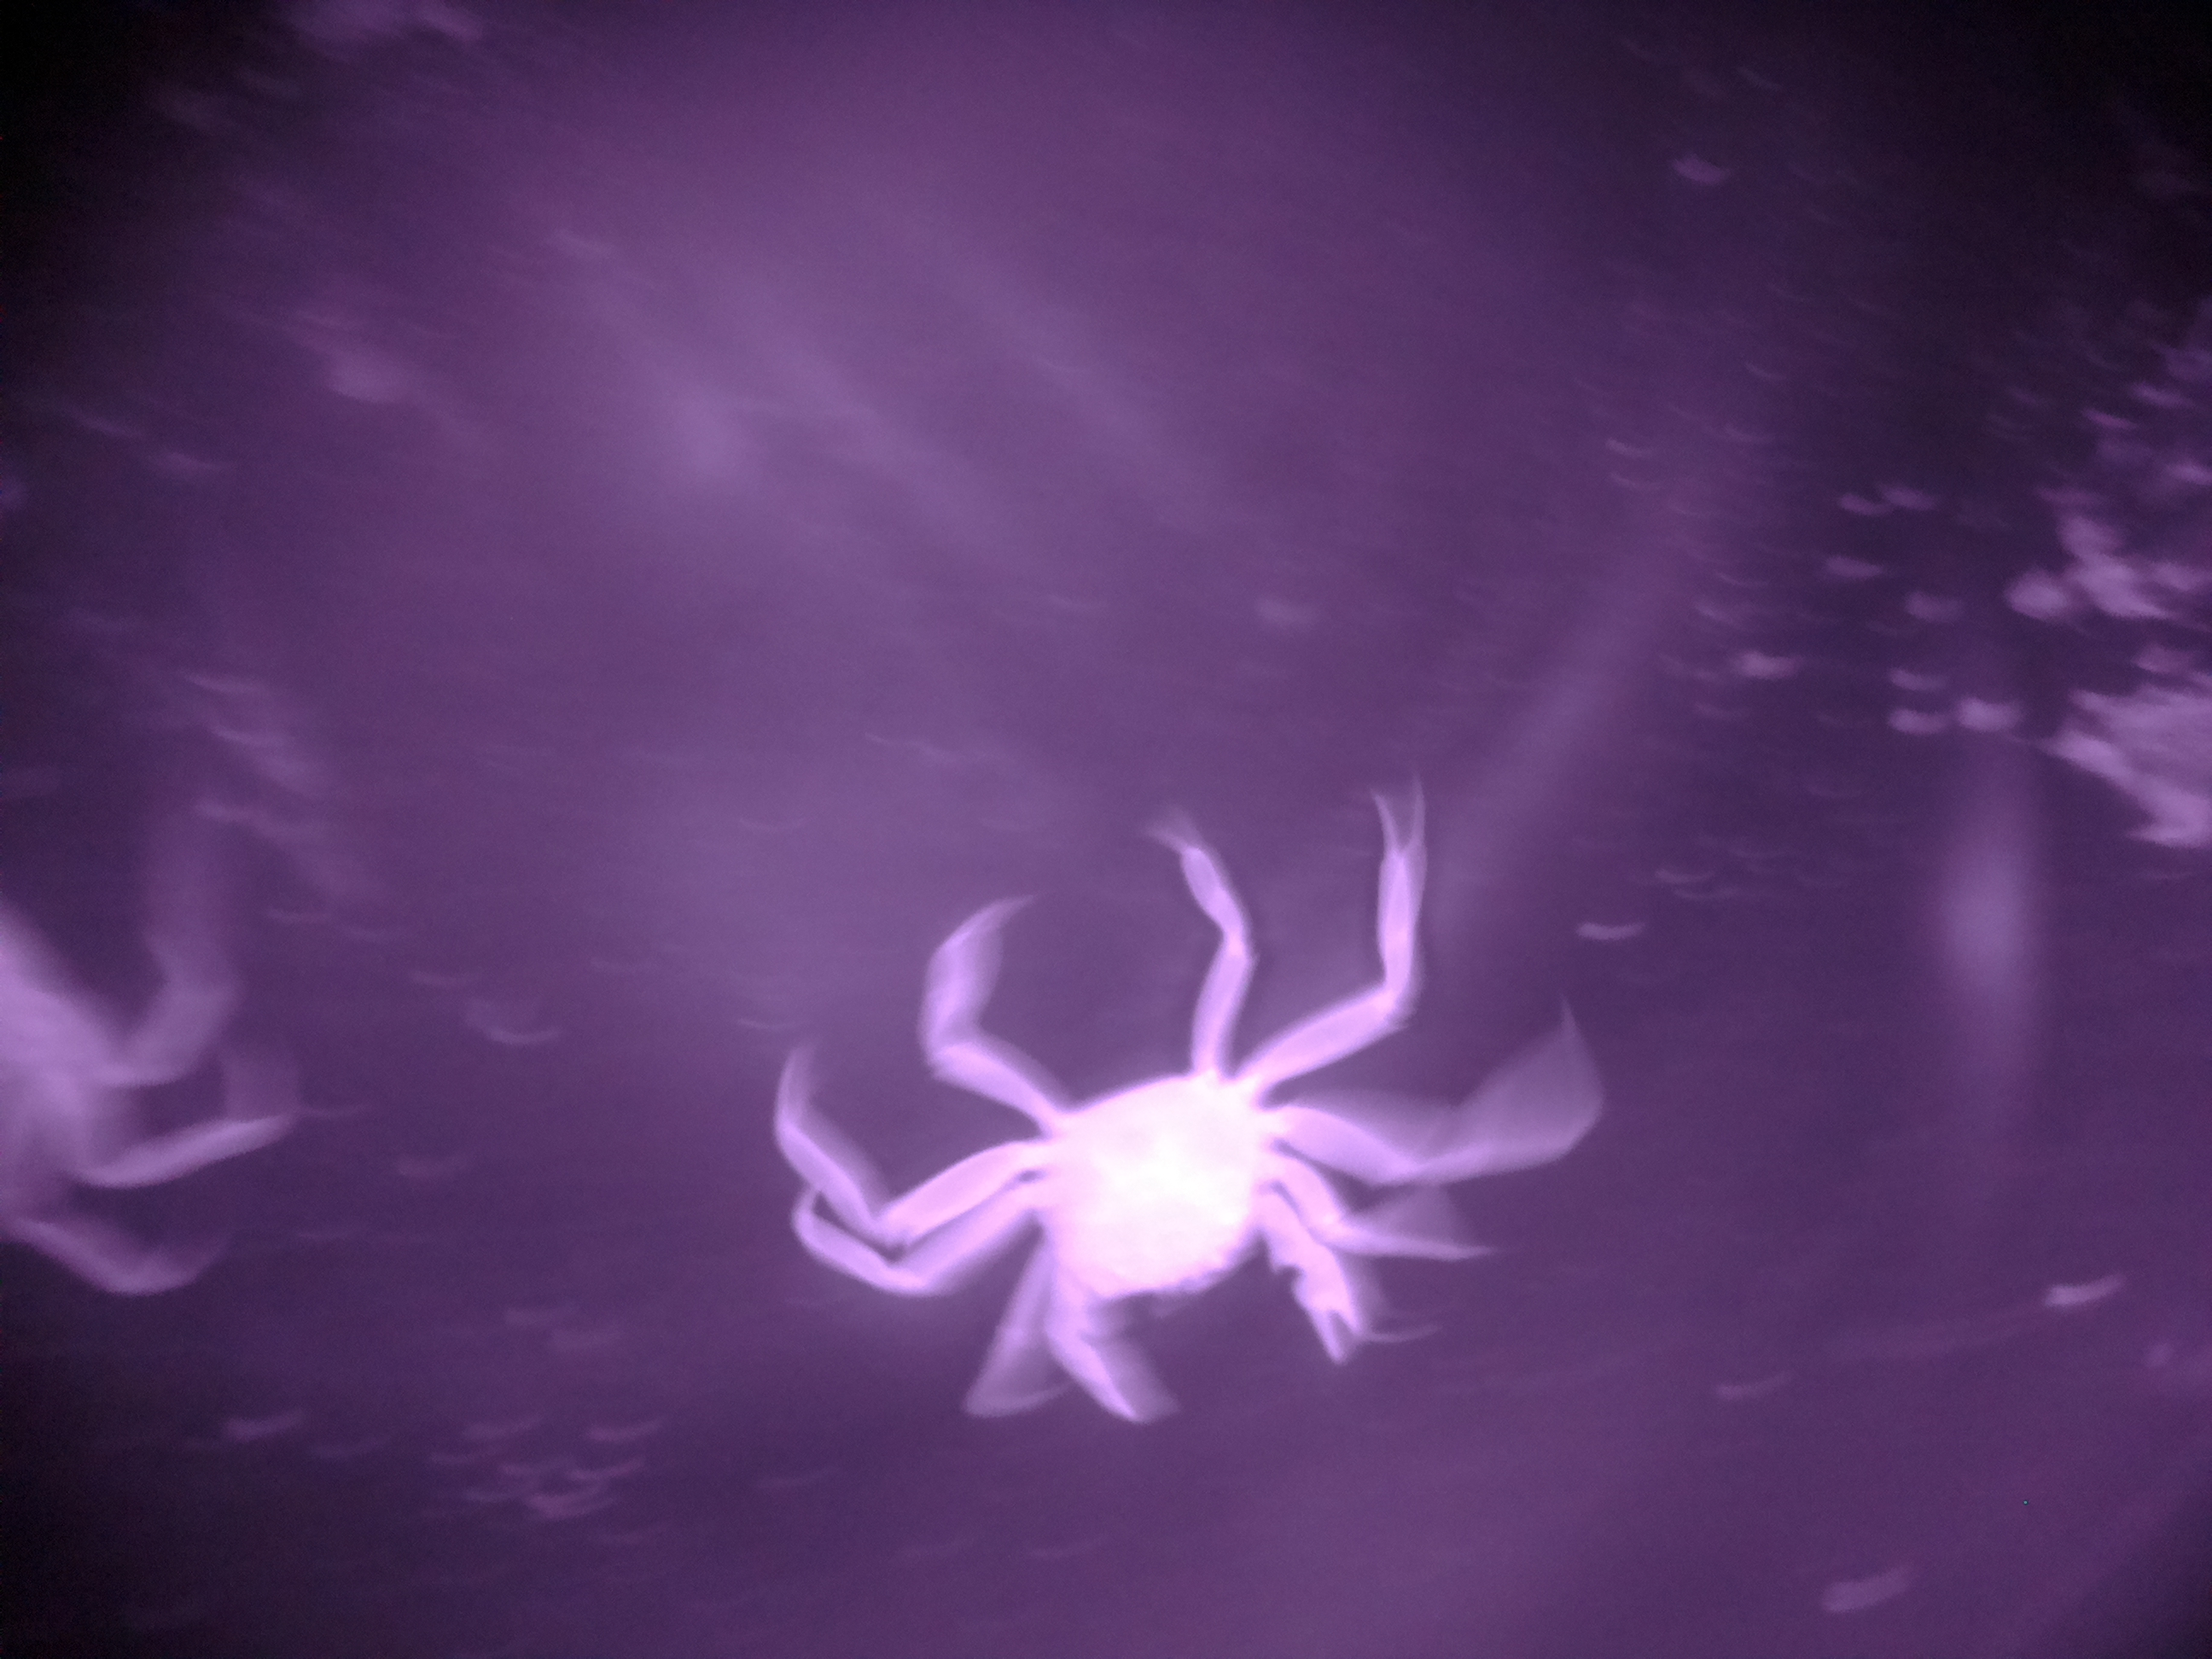Crab: (859, 979, 1482, 1506)
